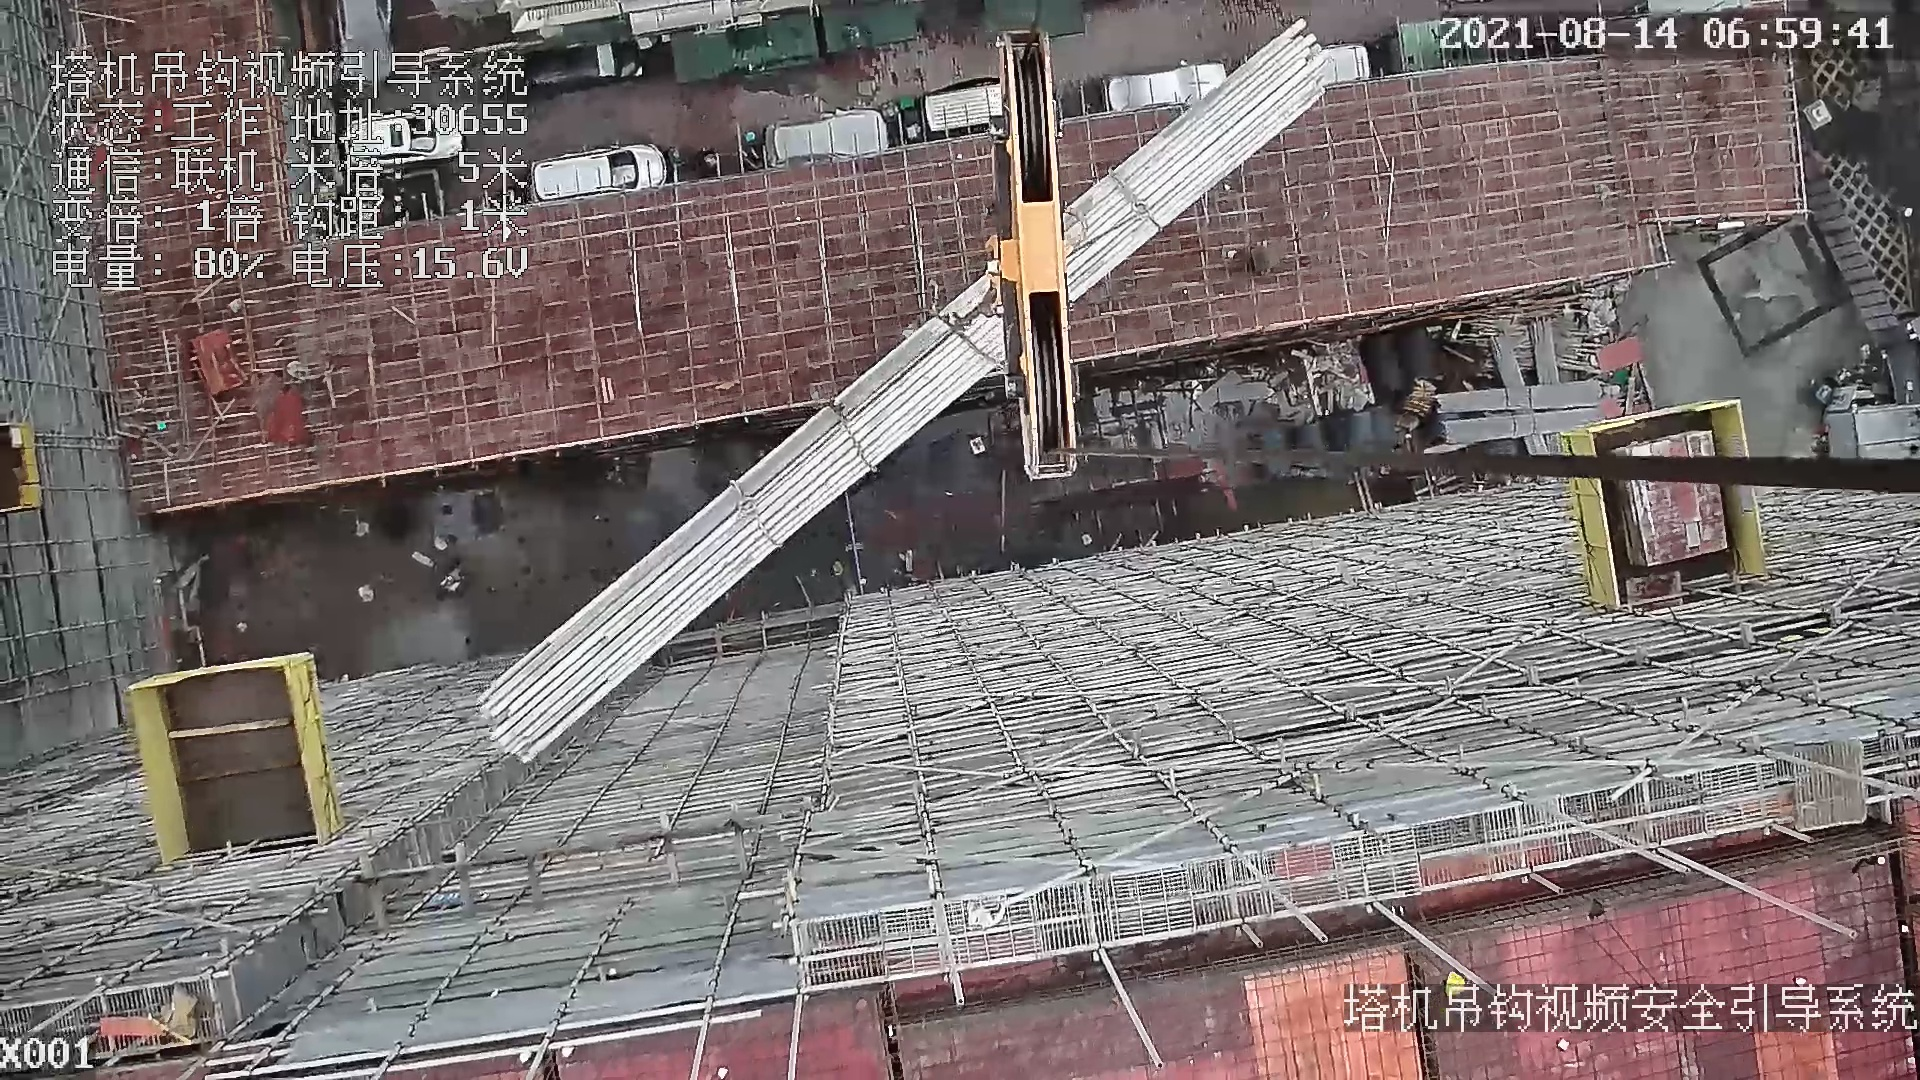board: (1602, 429, 1731, 568)
hook: (972, 21, 1095, 483)
rebar: (469, 18, 1331, 760), (1440, 406, 1610, 446), (1433, 378, 1600, 413), (1524, 318, 1563, 381), (1487, 336, 1526, 385)
